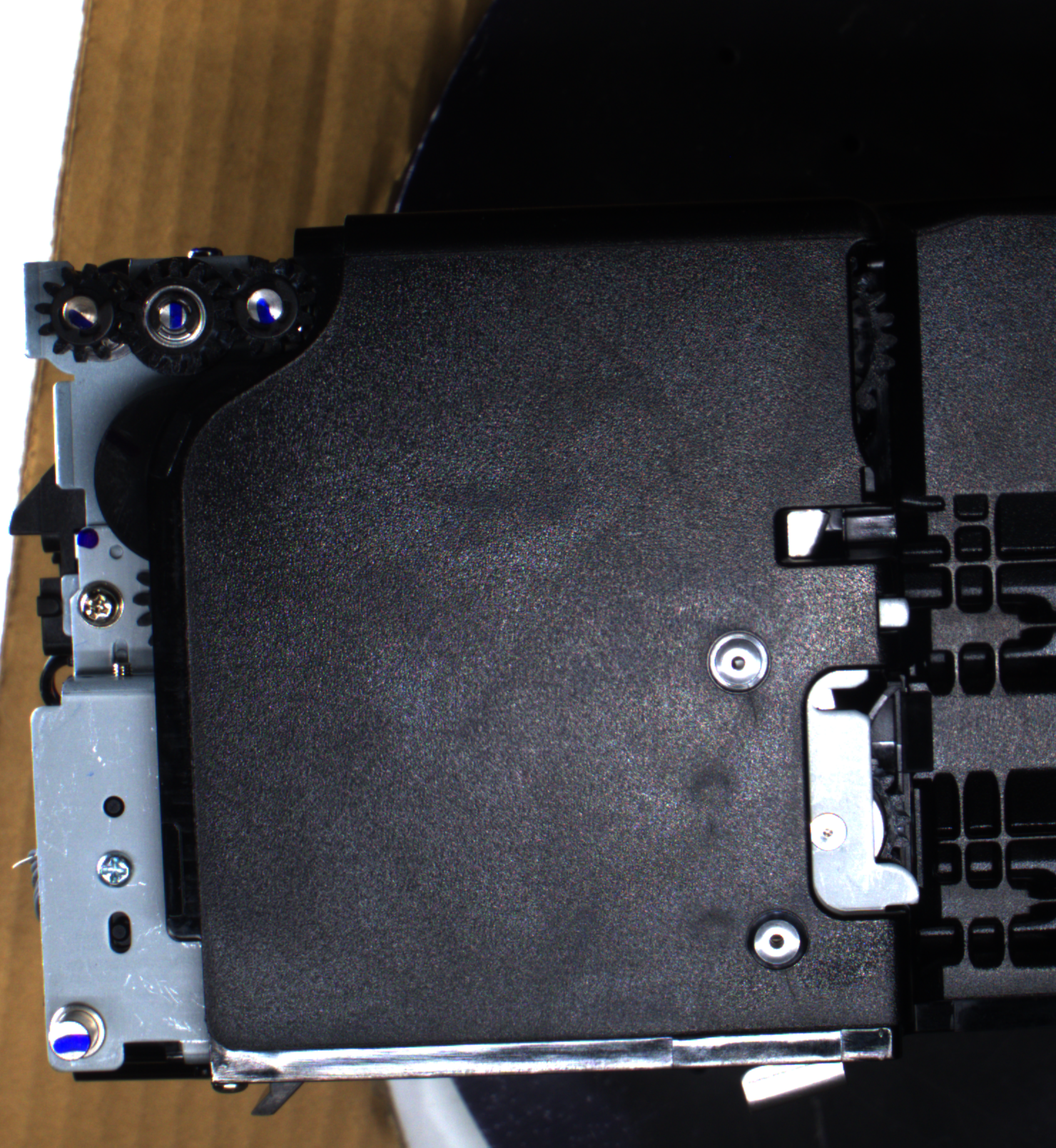centre_pin_presence: (734, 1044, 853, 1108)
centre_plate_presence: (798, 659, 927, 924)
centre_screw_presence: (703, 623, 775, 701), (741, 903, 812, 974)
gear1_presence: (35, 262, 135, 367)
gear2_presence: (119, 255, 231, 375)
gear3_presence: (212, 255, 315, 361)
side_screw_presence: (74, 578, 125, 629), (93, 849, 137, 890)
slanting_pin_presence: (42, 997, 114, 1070)
